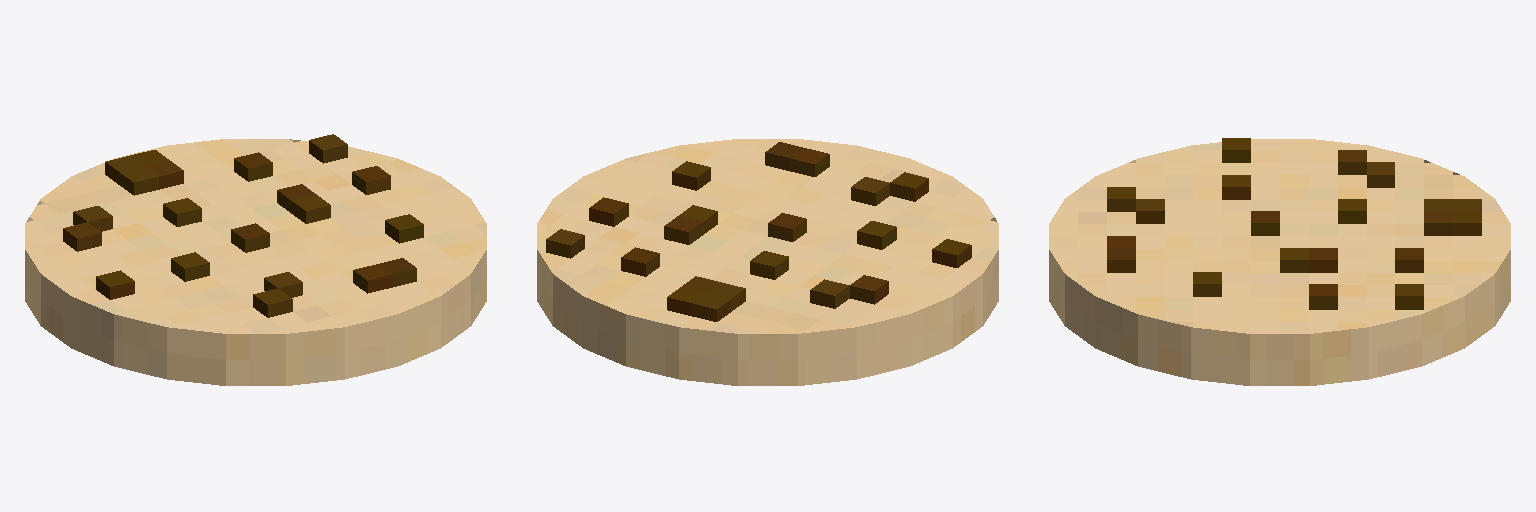
The picture shows the model from 3 angles: view 1: azimuth 30°, elevation 25°; view 2: azimuth 150°, elevation 25°; view 3: azimuth 270°, elevation 25°; orthographic projection.
Visible parts, largest first — view 1: cylinder, cube; view 2: cylinder, cube; view 3: cylinder, cube.
Part boxes in pixels (left/top/right/bottom): cylinder: left=25, top=139, right=486, bottom=385; cube: left=63, top=134, right=423, bottom=317; cylinder: left=537, top=139, right=998, bottom=385; cube: left=546, top=142, right=971, bottom=321; cylinder: left=1049, top=139, right=1510, bottom=385; cube: left=1107, top=138, right=1481, bottom=309.
Size of the model in its own units: 1 by 0.1562 by 1.
1 materials, 1 textured.